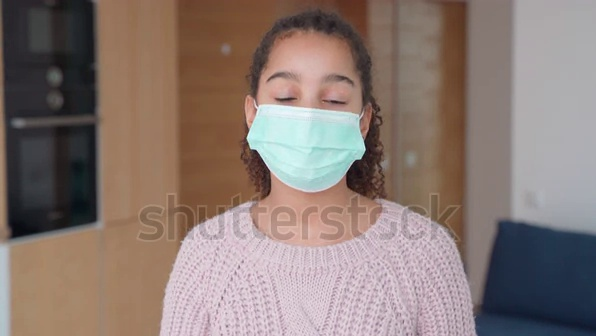Mask: (246, 107, 374, 191)
